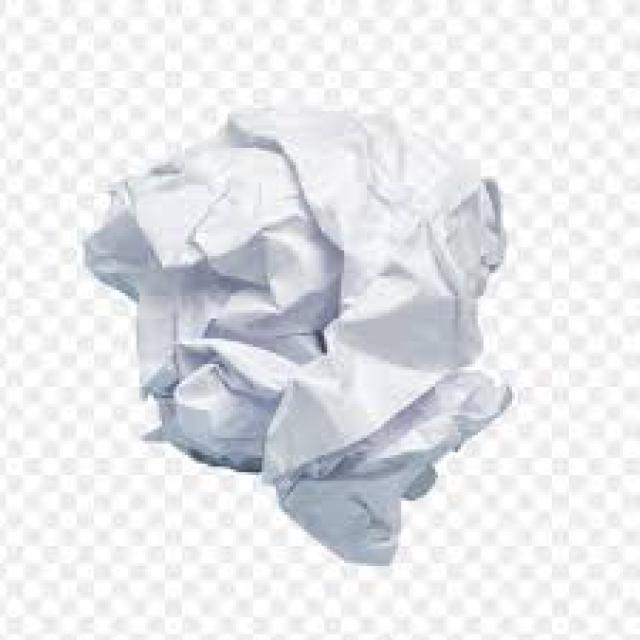crampled paper: (88, 114, 510, 564)
